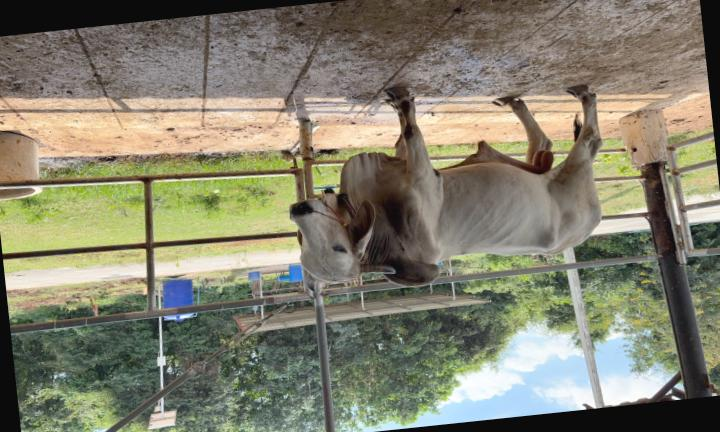Brahman: (289, 86, 601, 290)
